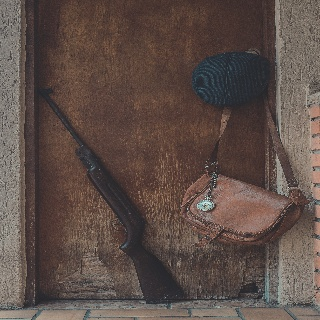rifle: (36, 85, 187, 301)
